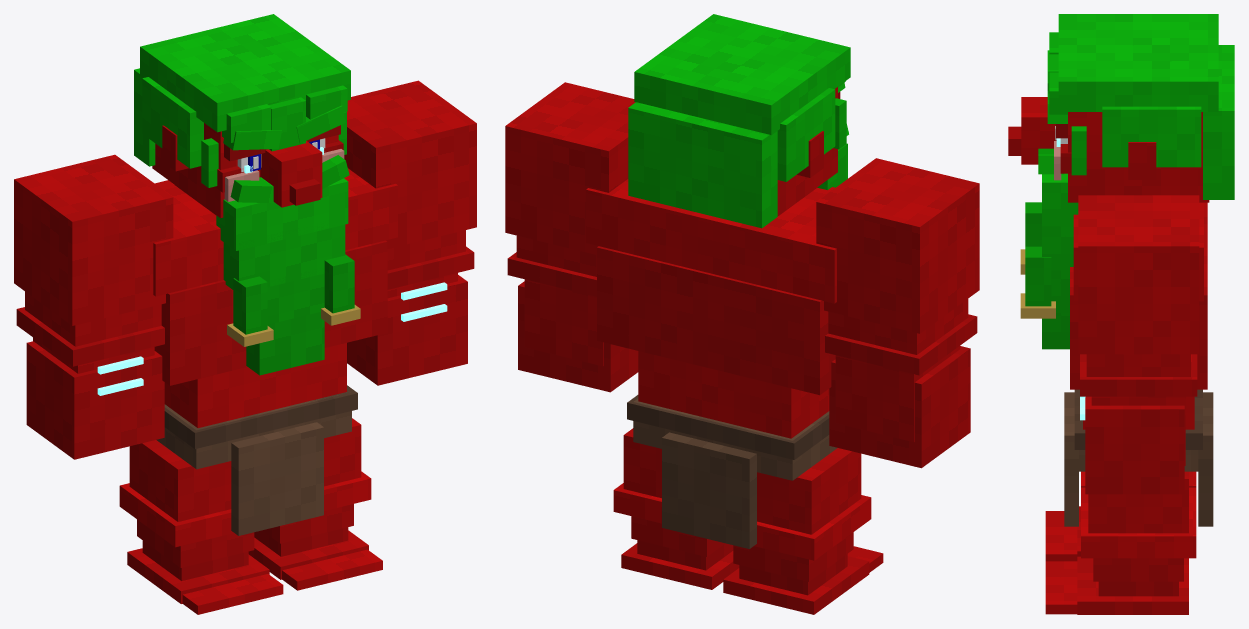
Rendered from dwarf_s0_evo1.glb.
The picture shows the model from 3 angles, left to right: view 1: azimuth 30°, elevation 25°; view 2: azimuth 150°, elevation 25°; view 3: azimuth 270°, elevation 25°; orthographic projection. The views are drawn at different scales.
Visible parts, largest first — view 1: Head, Torso, ArmR, ArmL, LegR, LegL; view 2: Torso, ArmR, Head, ArmL, LegR, LegL; view 3: Head, ArmL, LegL, Torso, LegR.
Boxes of the visible parts, x1,y1,x2,y2 form: Head: [134, 14, 360, 375]; Torso: [153, 168, 397, 535]; ArmR: [14, 154, 173, 459]; ArmL: [344, 80, 476, 385]; LegR: [119, 440, 283, 614]; LegL: [248, 418, 382, 590]; Torso: [586, 179, 837, 548]; ArmR: [816, 158, 979, 468]; Head: [628, 14, 850, 228]; ArmL: [505, 82, 638, 392]; LegR: [723, 448, 883, 614]; LegL: [613, 428, 739, 589]; Head: [1008, 14, 1234, 349]; ArmL: [1078, 195, 1199, 494]; LegL: [1045, 471, 1196, 614]; Torso: [1064, 202, 1213, 526]; LegR: [1045, 471, 1196, 561].
Bounding box in the file's own units: 1.3 × 1.54 × 0.6075.
Materials: 25 (25 with a texture image).
